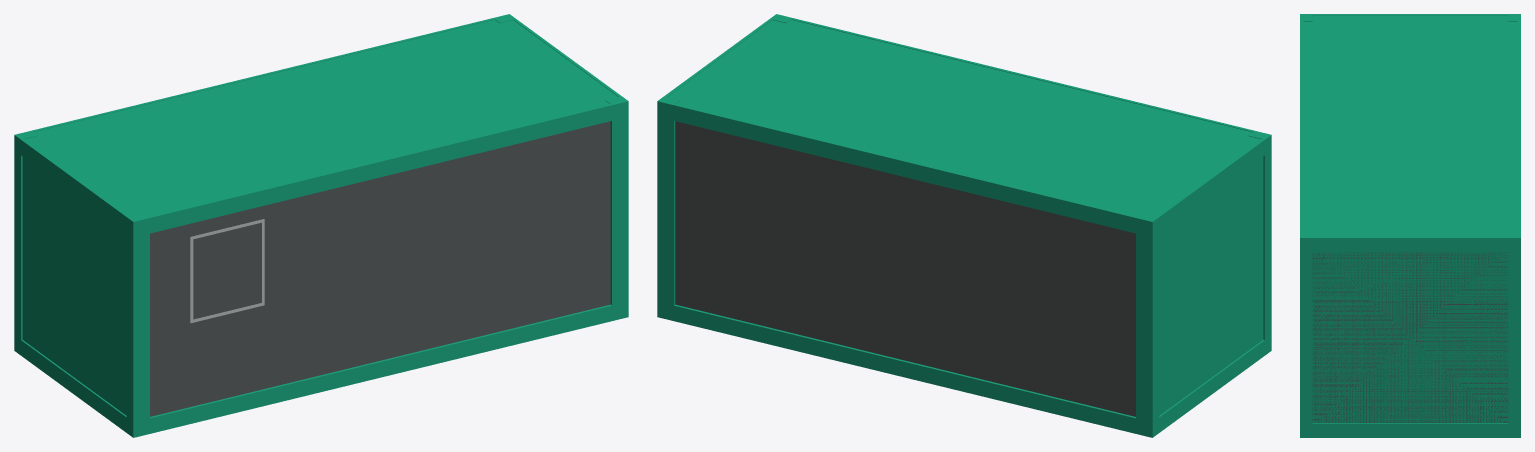
3 renders of one model, left to right at view 1: azimuth 30°, elevation 25°; view 2: azimuth 150°, elevation 25°; view 3: azimuth 270°, elevation 25°, orthographic. The views are drawn at different scales.
Visible parts, largest first — view 1: site_cabin; view 2: site_cabin; view 3: site_cabin.
Boxes of the visible parts, box(x1,y1,x2,y2) form: site_cabin: box(14, 14, 628, 437); site_cabin: box(657, 14, 1271, 437); site_cabin: box(1300, 14, 1520, 437).
Bounding box in the file's own units: 5.99 × 2.49 × 2.49.
